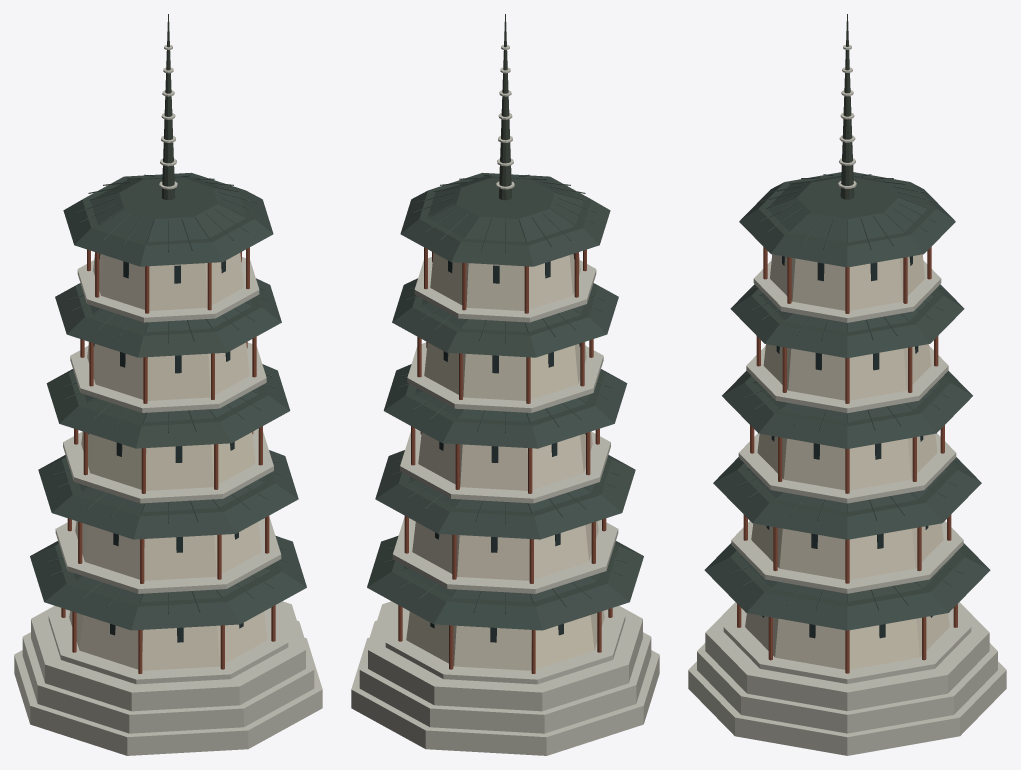
The model's file is leifeng-crafted.glb.
3 views of the same model, side by side, from view 1: azimuth 30°, elevation 25°; view 2: azimuth 150°, elevation 25°; view 3: azimuth 270°, elevation 25° (orthographic).
Visible parts, largest first — view 1: Dark_Tile, Limestone, White_Plaster, Lacquered_Wood, Patinated_Iron, Deep_Glazing; view 2: Dark_Tile, Limestone, White_Plaster, Lacquered_Wood, Patinated_Iron, Deep_Glazing; view 3: Dark_Tile, Limestone, White_Plaster, Lacquered_Wood, Deep_Glazing, Patinated_Iron.
Boxes of the visible parts, x1,y1,x2,y2 form: Dark_Tile: (30, 172, 306, 630); Limestone: (14, 45, 322, 755); White_Plaster: (69, 253, 267, 670); Lacquered_Wood: (61, 247, 275, 673); Patinated_Iron: (161, 14, 175, 200); Deep_Glazing: (88, 253, 243, 642); Dark_Tile: (367, 172, 643, 630); Limestone: (351, 45, 659, 755); White_Plaster: (406, 253, 604, 670); Lacquered_Wood: (398, 247, 612, 673); Patinated_Iron: (498, 14, 512, 200); Deep_Glazing: (430, 253, 585, 642); Dark_Tile: (704, 172, 990, 630); Limestone: (688, 44, 1006, 755); White_Plaster: (745, 254, 949, 669); Lacquered_Wood: (737, 247, 957, 673); Deep_Glazing: (762, 256, 932, 638); Patinated_Iron: (840, 14, 854, 199).
Bounding box in the file's own units: 30.8 × 72 × 30.8.
